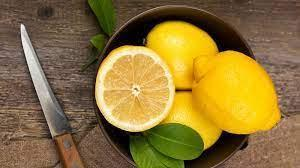lemon: (192, 51, 281, 134), (95, 46, 176, 132), (147, 21, 219, 89), (157, 90, 222, 150)
